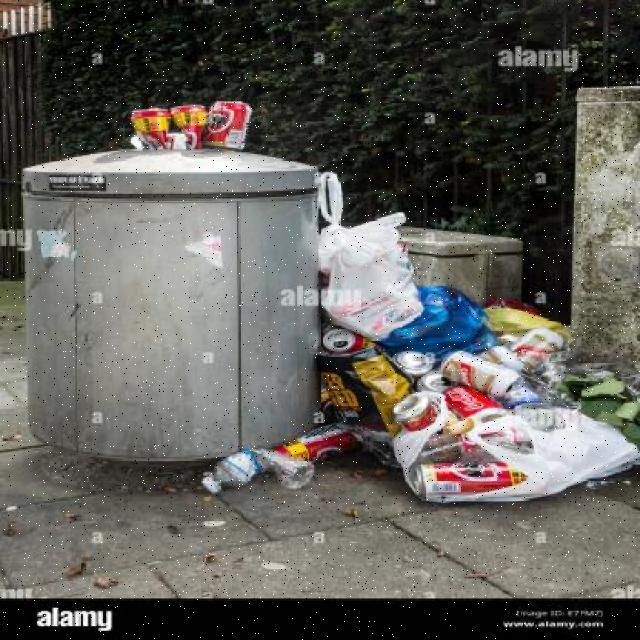garbage container: (12, 134, 328, 487)
